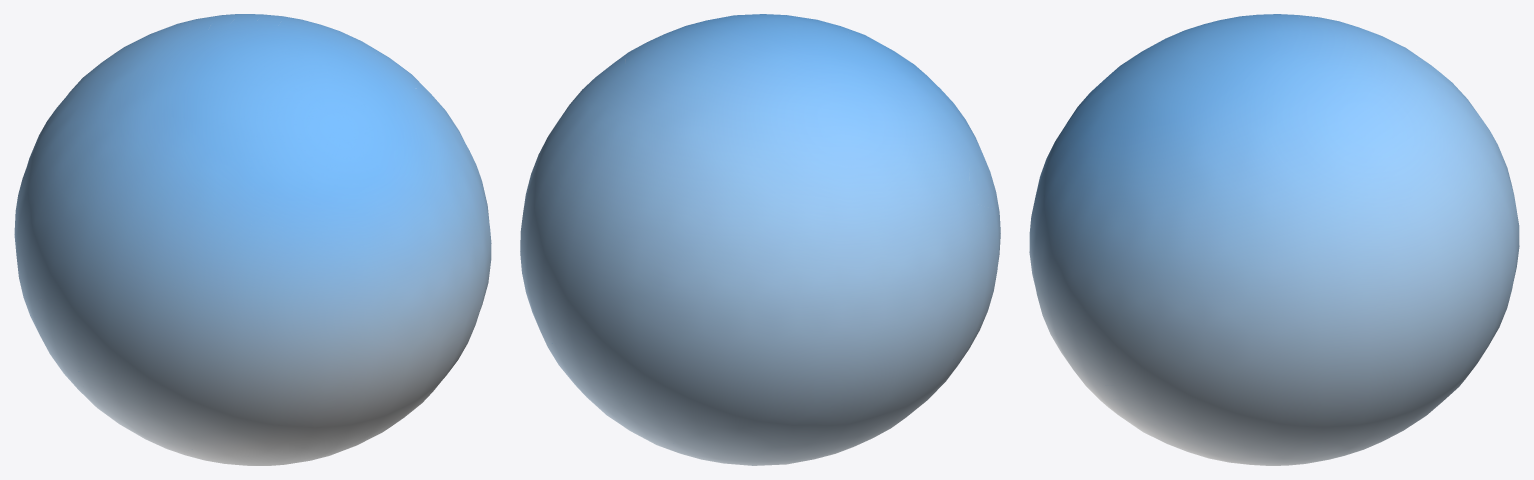
Rendered from map2_shop_ciel.obj.
3 renders of one model, left to right at view 1: azimuth 30°, elevation 25°; view 2: azimuth 150°, elevation 25°; view 3: azimuth 270°, elevation 25°, orthographic.
Size of the model in its own units: 14392 by 13450 by 14827.
